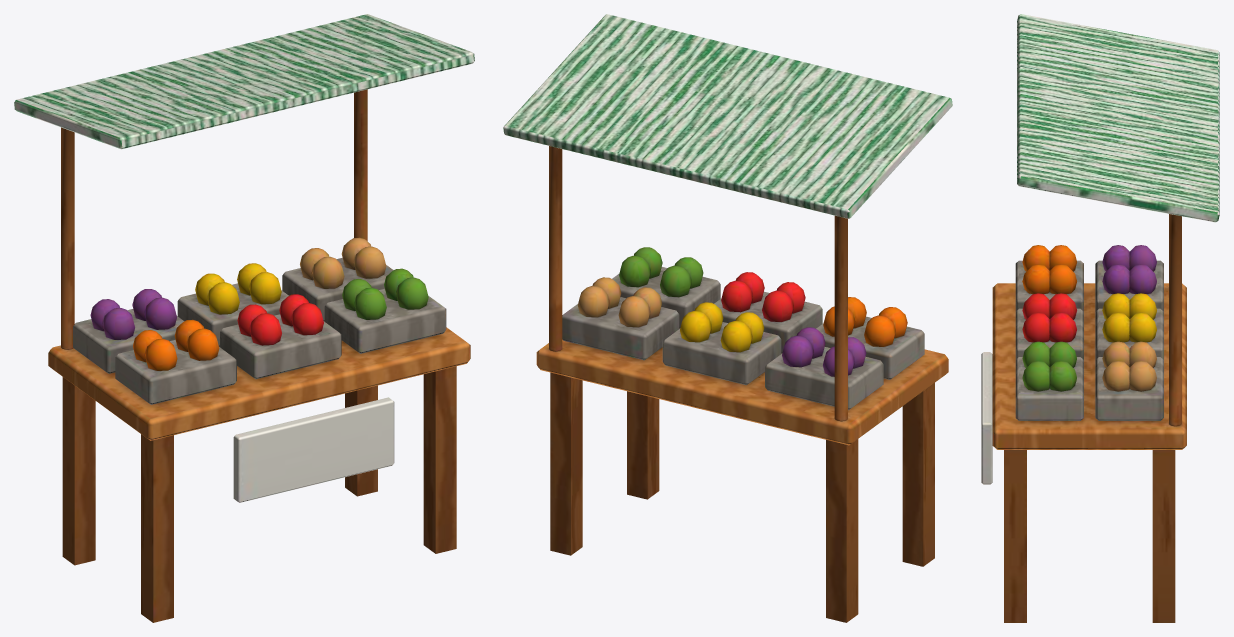
The model's file is veggie_stand.glb.
The picture shows the model from 3 angles, left to right: view 1: azimuth 30°, elevation 25°; view 2: azimuth 150°, elevation 25°; view 3: azimuth 270°, elevation 25°; orthographic projection. The views are drawn at different scales.
Parts seen in each view (by area): view 1: veggie_stand; view 2: veggie_stand; view 3: veggie_stand.
Boxes of the visible parts, x1,y1,x2,y2 form: veggie_stand: (14, 14, 474, 622); veggie_stand: (503, 14, 952, 622); veggie_stand: (981, 14, 1219, 622).
Bounding box in the file's own units: 0.68 × 0.8848 × 0.4176.
Materials: 1 (1 with a texture image).
